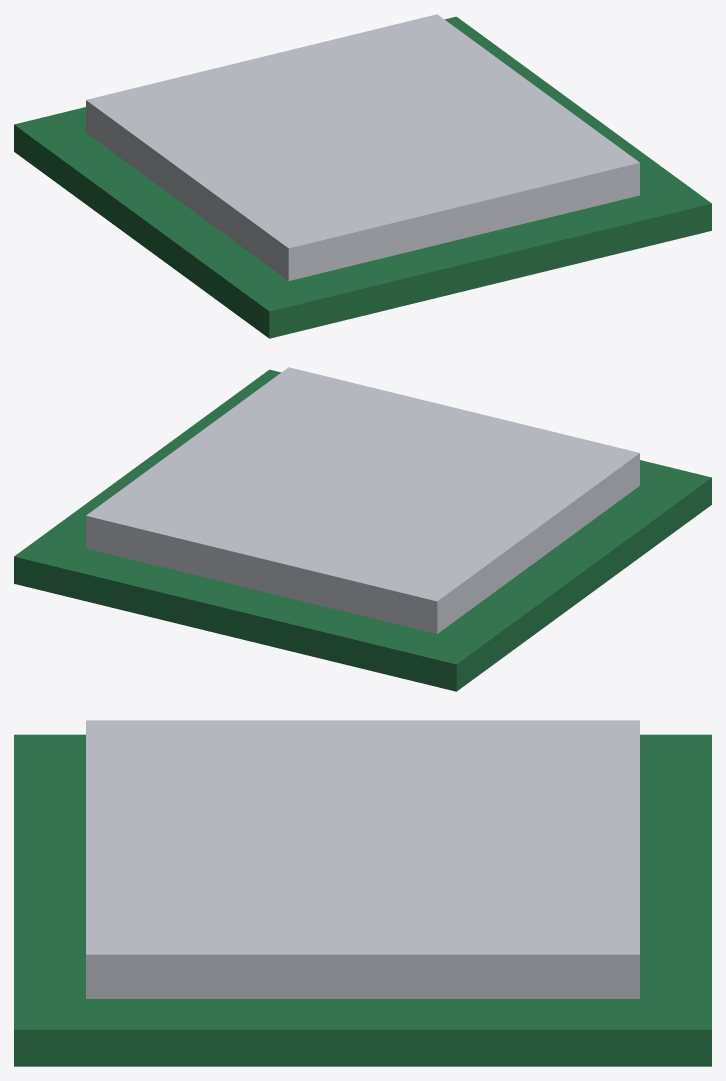
File: cpu.fbx
The picture shows the model from 3 angles, top to bottom: view 1: azimuth 30°, elevation 25°; view 2: azimuth 150°, elevation 25°; view 3: azimuth 270°, elevation 25°; orthographic projection. The views are drawn at different scales.
Parts seen in each view (by area): view 1: cpu_1, cpu_0; view 2: cpu_1, cpu_0; view 3: cpu_1, cpu_0.
Part boxes in pixels (x1=…): cpu_1: x1=86, y1=14, x2=639, y2=280; cpu_0: x1=14, y1=16, x2=711, y2=338; cpu_1: x1=86, y1=367, x2=639, y2=633; cpu_0: x1=14, y1=369, x2=711, y2=691; cpu_1: x1=86, y1=720, x2=639, y2=998; cpu_0: x1=14, y1=734, x2=711, y2=1066.
Bounding box in the file's own units: 1.7 × 0.22 × 1.7.
